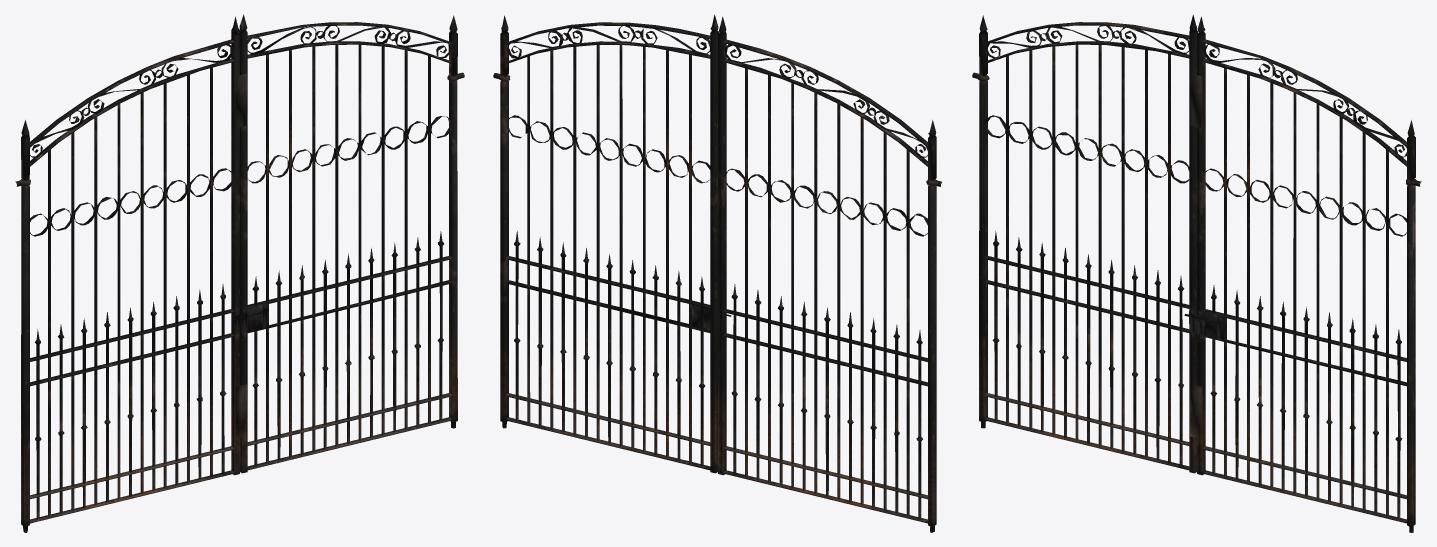
Rendered from large_iron_gate.glb.
The picture shows the model from 3 angles, left to right: view 1: azimuth 30°, elevation 25°; view 2: azimuth 150°, elevation 25°; view 3: azimuth 330°, elevation 25°; orthographic projection.
Visible parts, largest first — view 1: large_iron_gate_right_door; view 2: large_iron_gate_right_door; view 3: large_iron_gate_right_door.
Part boxes in pixels (<box>): large_iron_gate_right_door: <box>15,14,464,532</box>; large_iron_gate_right_door: <box>493,14,941,532</box>; large_iron_gate_right_door: <box>972,14,1421,532</box>.
Size of the model in its own units: 2.95 by 2.93 by 0.0923.
Materials: 1 (1 with a texture image).
